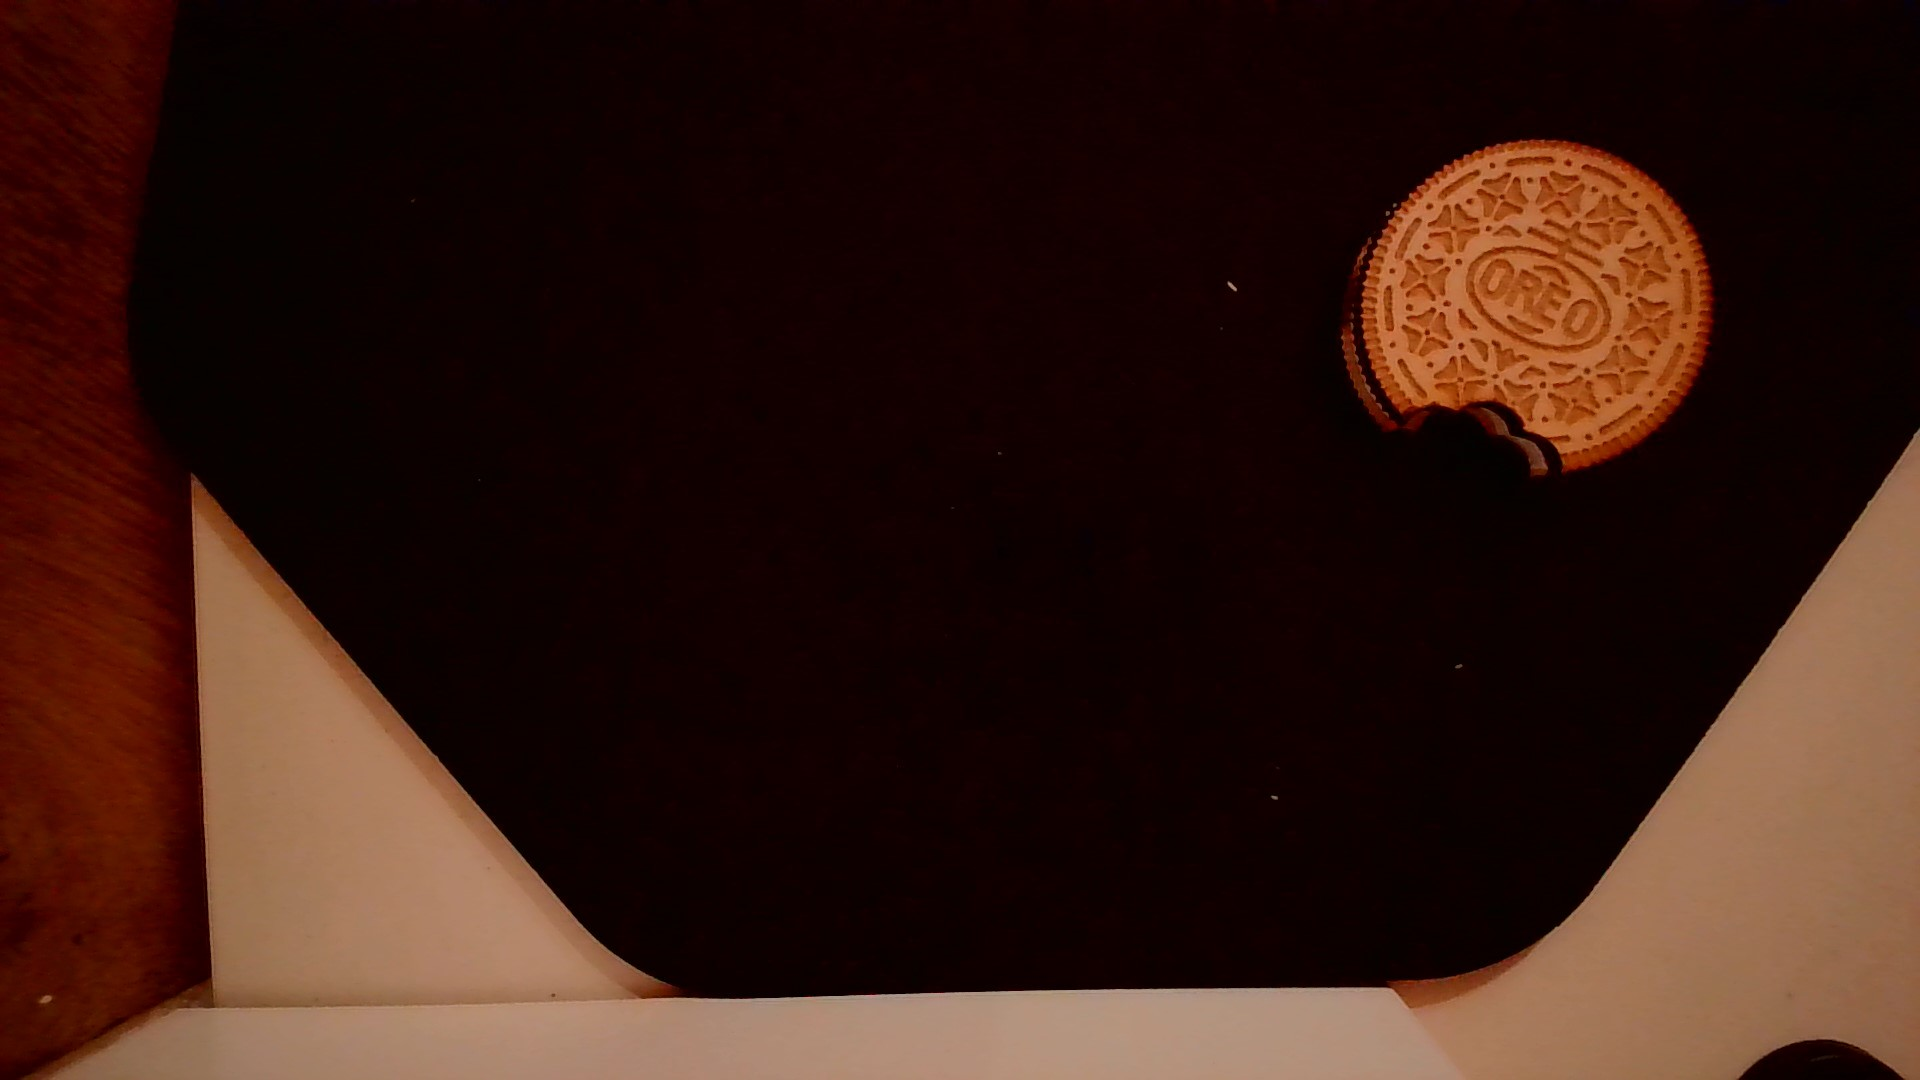Mangé: (1375, 392, 1576, 497)
Oréo: (1328, 129, 1725, 483)
